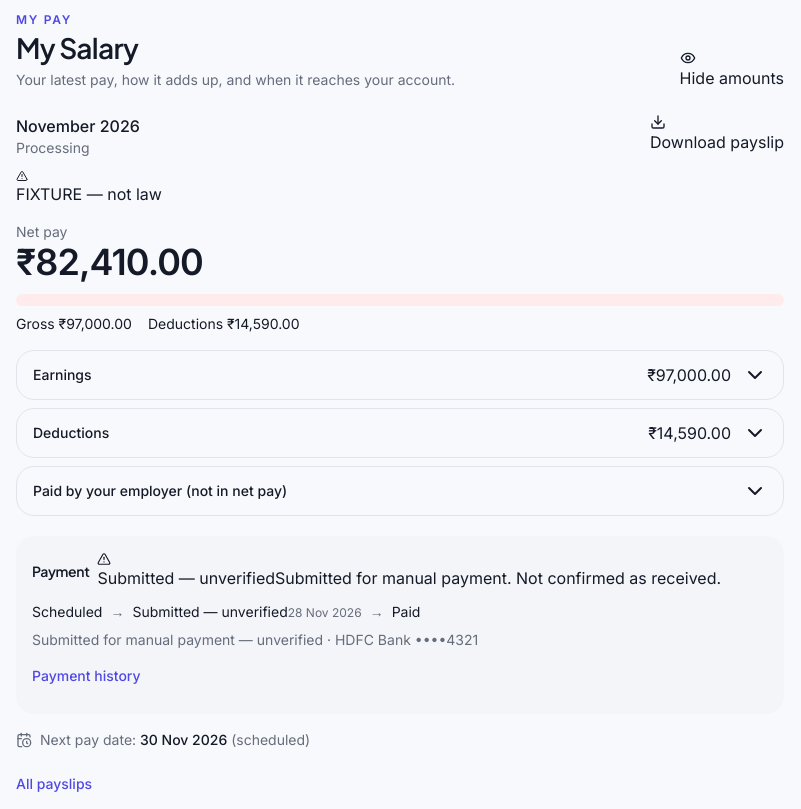
My Salary › keeps employer contributions in their own expander, apart from net pay
Check: the text "Employer PF" is not shown
Click the button "Paid by your employer (not in net pay)". click: point(160, 490)
box: left=17, top=467, right=783, bottom=515
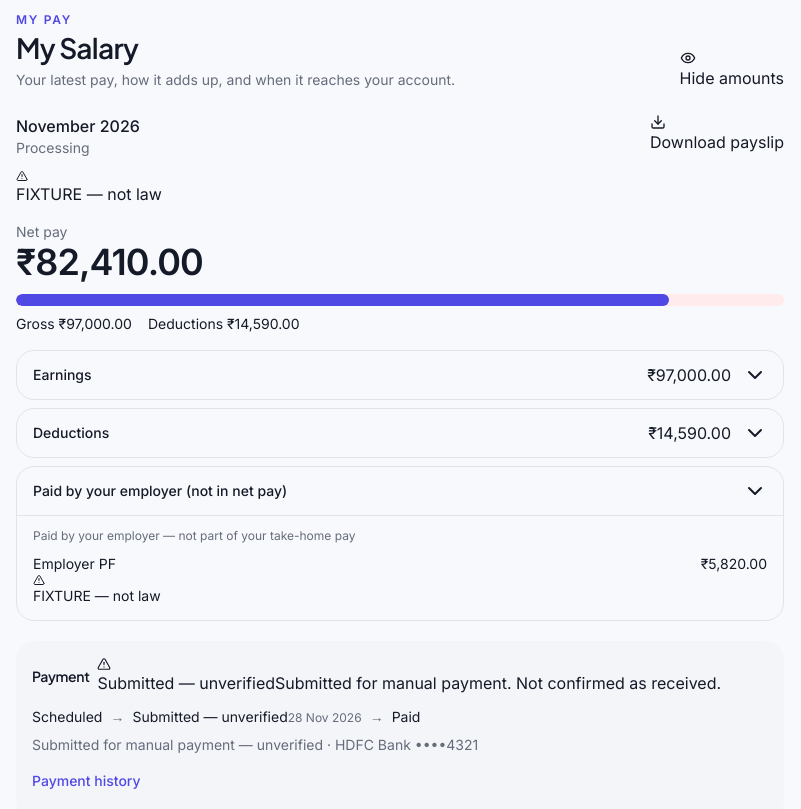
Check: the text "Employer PF" is shown, box left=33, top=555, right=116, bottom=572
Check: the text "Paid by your employer — not part of your take-home pay" is shown, box left=33, top=528, right=356, bottom=543
